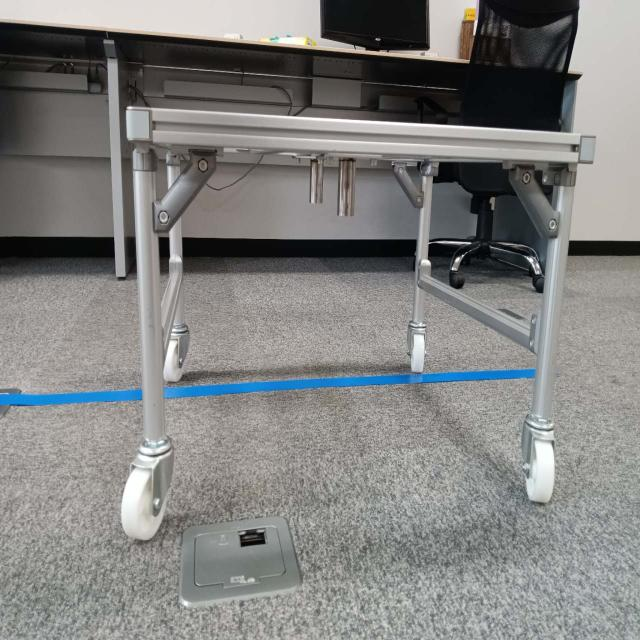door: (129, 106, 574, 245)
